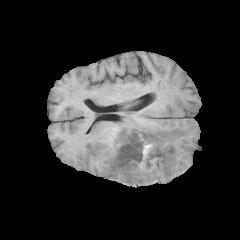glioma: (102, 113, 190, 184)
